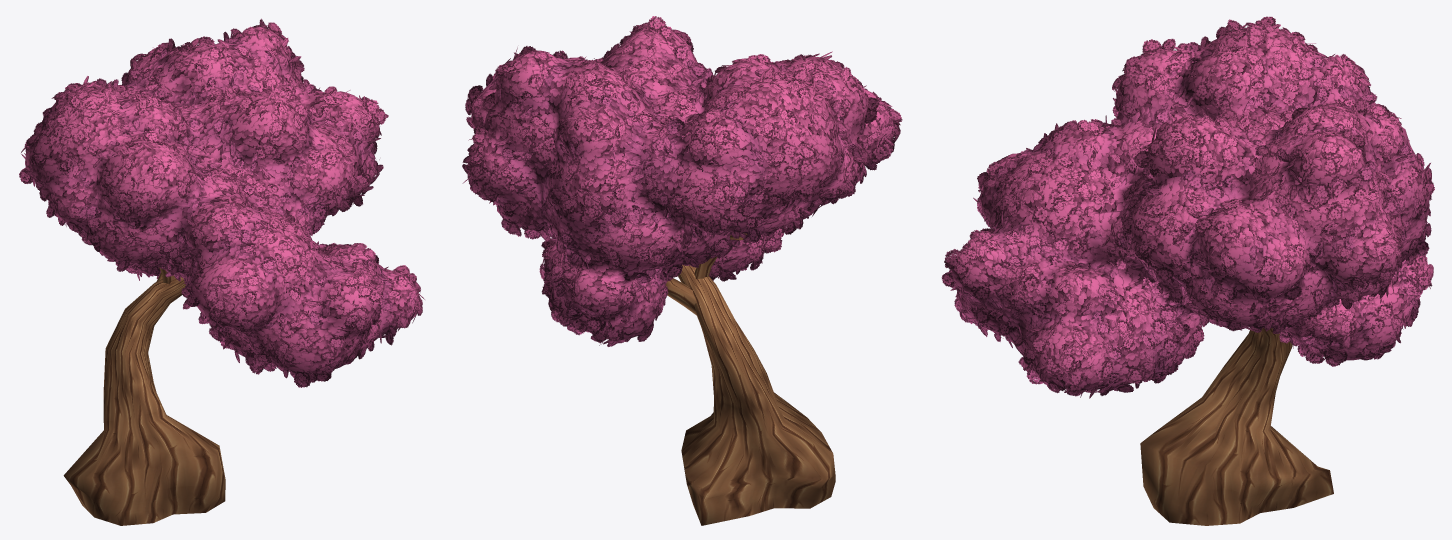
File: cherry_v2.glb
3 renders of one model, left to right at view 1: azimuth 30°, elevation 25°; view 2: azimuth 150°, elevation 25°; view 3: azimuth 270°, elevation 25°, orthographic. The views are drawn at different scales.
Visible parts, largest first — view 1: cherry_v2_leaves_LOD0, cherry_v2_volume_LOD0, cherry_v2_trunk_LOD0; view 2: cherry_v2_leaves_LOD0, cherry_v2_volume_LOD0, cherry_v2_trunk_LOD0; view 3: cherry_v2_leaves_LOD0, cherry_v2_volume_LOD0, cherry_v2_trunk_LOD0.
Boxes of the visible parts, x1,y1,x2,y2 form: cherry_v2_leaves_LOD0: [19, 18, 424, 387]; cherry_v2_volume_LOD0: [25, 27, 419, 373]; cherry_v2_trunk_LOD0: [63, 267, 225, 525]; cherry_v2_leaves_LOD0: [462, 16, 902, 346]; cherry_v2_volume_LOD0: [467, 28, 893, 339]; cherry_v2_trunk_LOD0: [665, 233, 835, 525]; cherry_v2_leaves_LOD0: [941, 16, 1434, 398]; cherry_v2_volume_LOD0: [952, 26, 1429, 390]; cherry_v2_trunk_LOD0: [1140, 327, 1333, 525].
Size of what is drawn, in the model's own units: 7.27 by 8.12 by 8.06.
3 materials, 3 textured.
